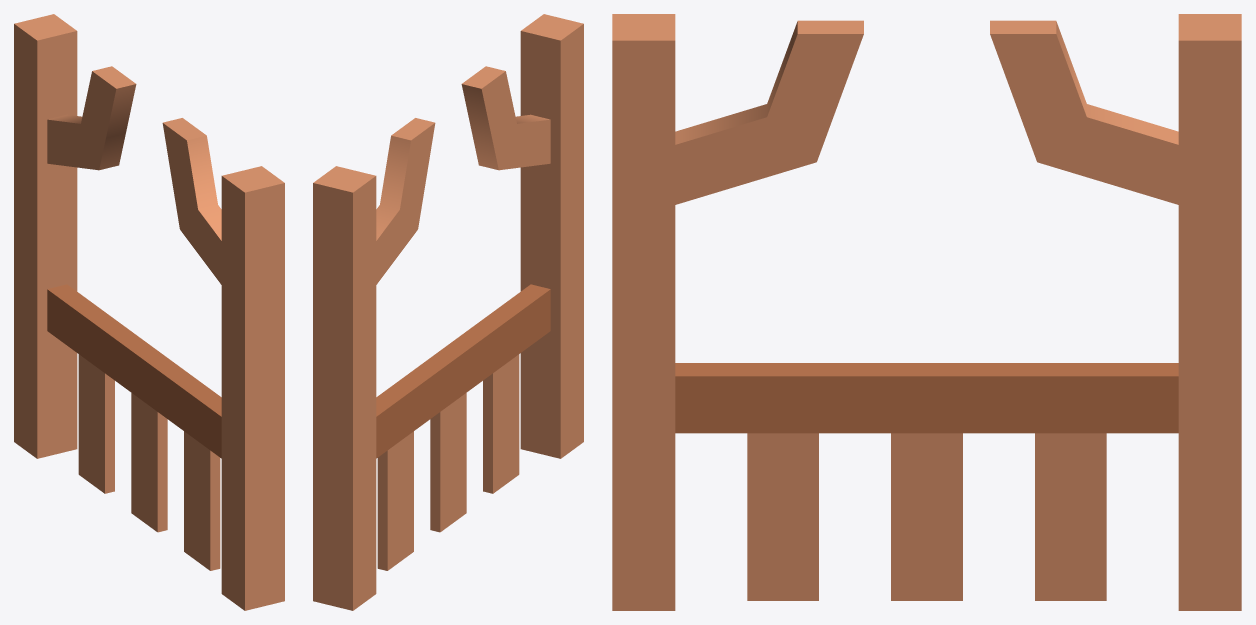
Rendered from balconyWallFence.fbx.
3 renders of one model, left to right at view 1: azimuth 30°, elevation 25°; view 2: azimuth 150°, elevation 25°; view 3: azimuth 270°, elevation 25°, orthographic. The views are drawn at different scales.
Parts seen in each view (by area): view 1: balconyWallFence; view 2: balconyWallFence; view 3: balconyWallFence.
Boxes of the visible parts, left/top/right/bottom form: balconyWallFence: left=14, top=14, right=284, bottom=610; balconyWallFence: left=313, top=14, right=583, bottom=610; balconyWallFence: left=612, top=14, right=1241, bottom=610.
Size of the model in its own units: 1 by 10 by 10.
